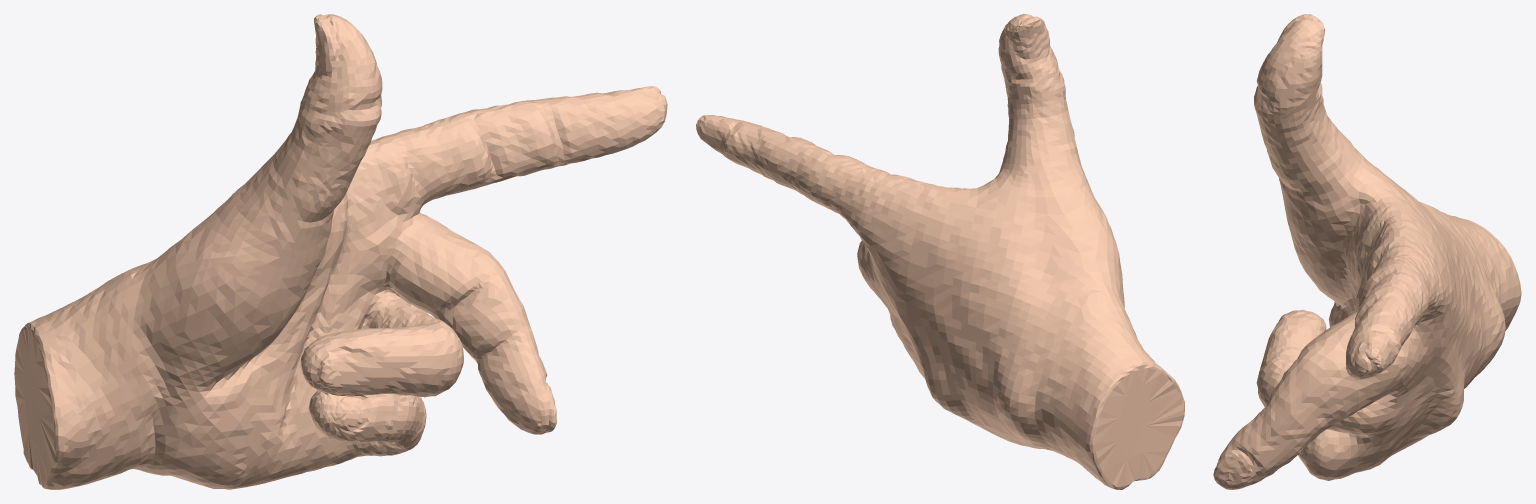
Rendered from left_finger.glb.
3 views of the same model, side by side, from view 1: azimuth 30°, elevation 25°; view 2: azimuth 150°, elevation 25°; view 3: azimuth 270°, elevation 25° (orthographic). The views are drawn at different scales.
Parts seen in each view (by area): view 1: Mesh1.0; view 2: Mesh1.0; view 3: Mesh1.0.
Part boxes in pixels (bbox=[...]): Mesh1.0: bbox=[14, 14, 667, 489]; Mesh1.0: bbox=[696, 14, 1184, 489]; Mesh1.0: bbox=[1213, 14, 1521, 489].
Size of the model in its own units: 1.9 by 1.46 by 0.9198.
